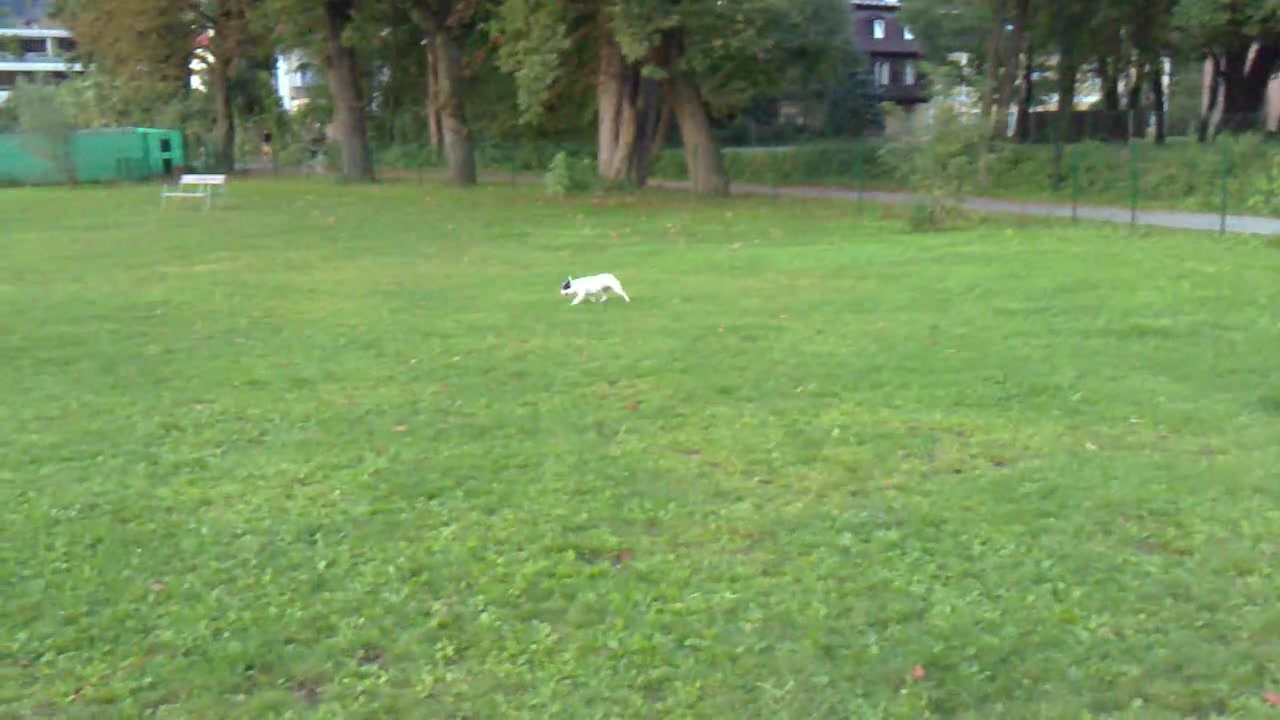dog: (561, 271, 634, 309)
